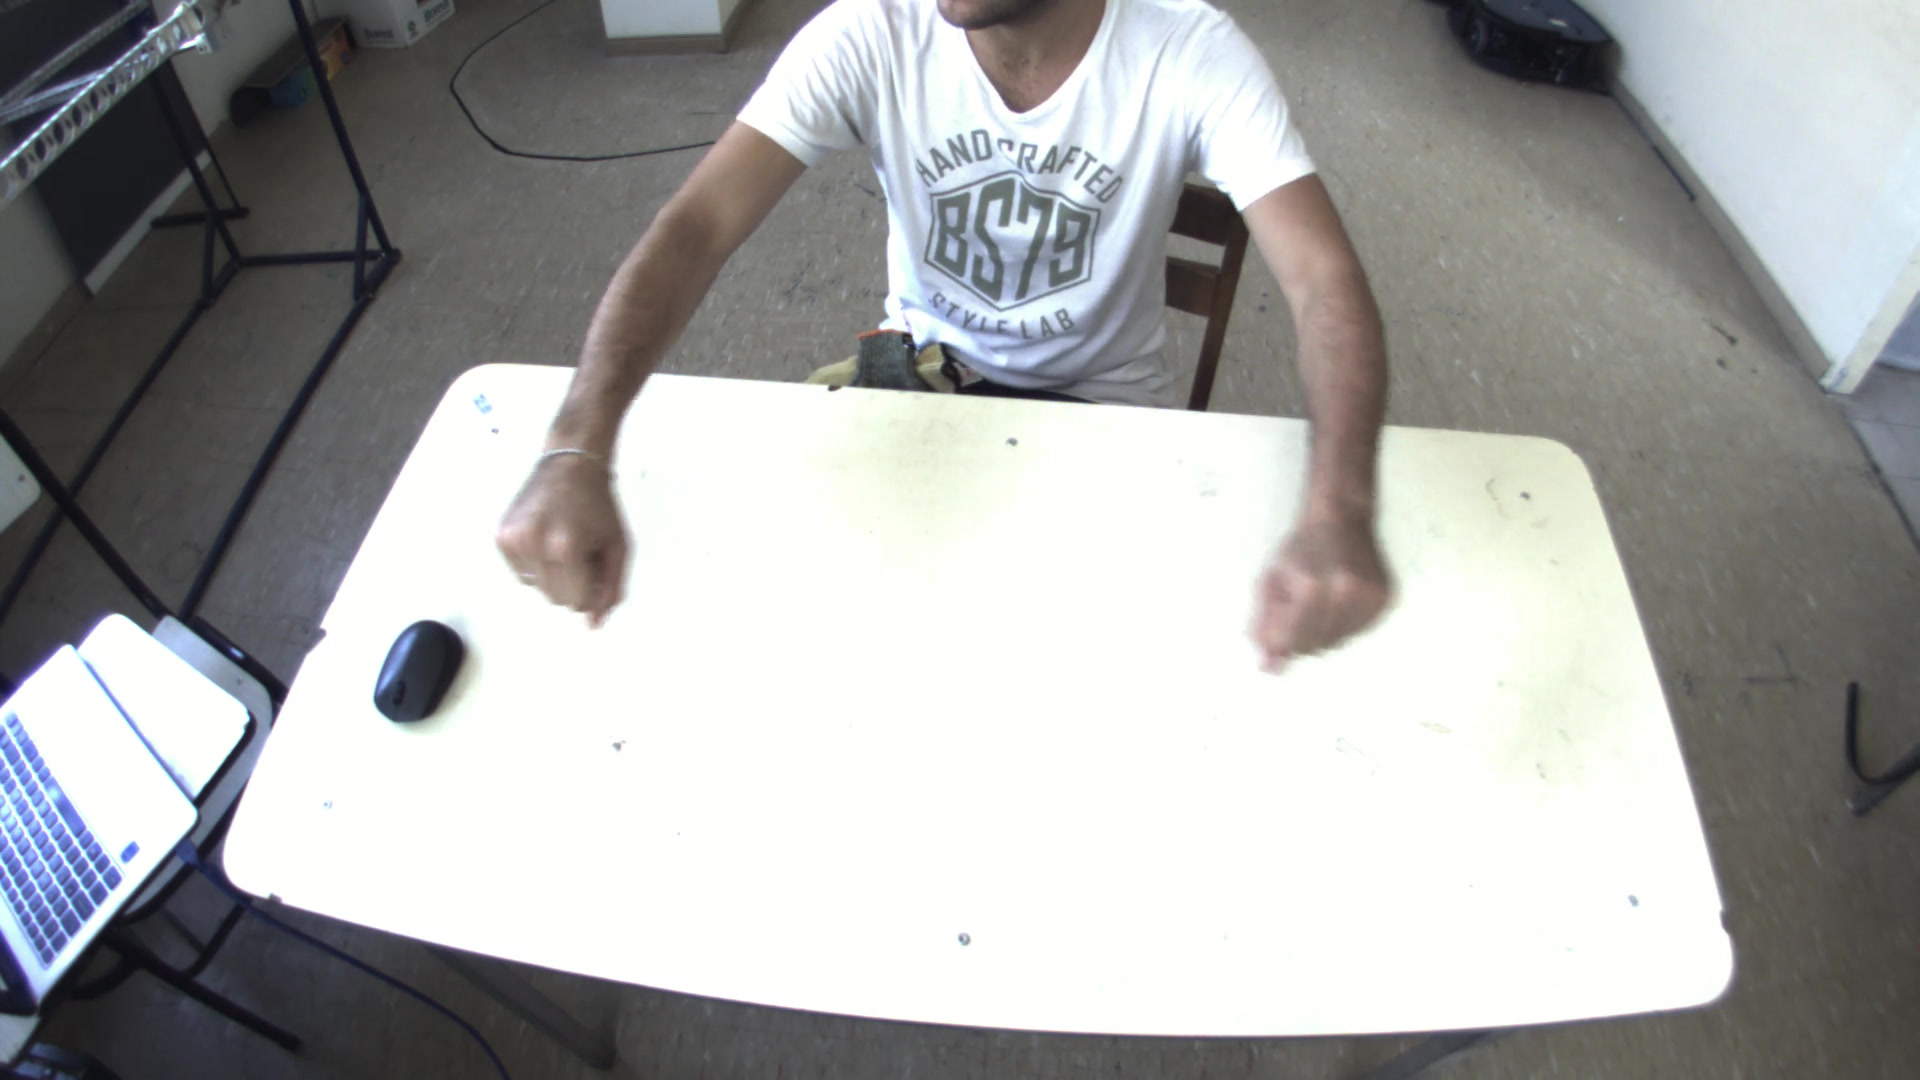hand: (1238, 488, 1408, 669), (491, 431, 637, 629)
